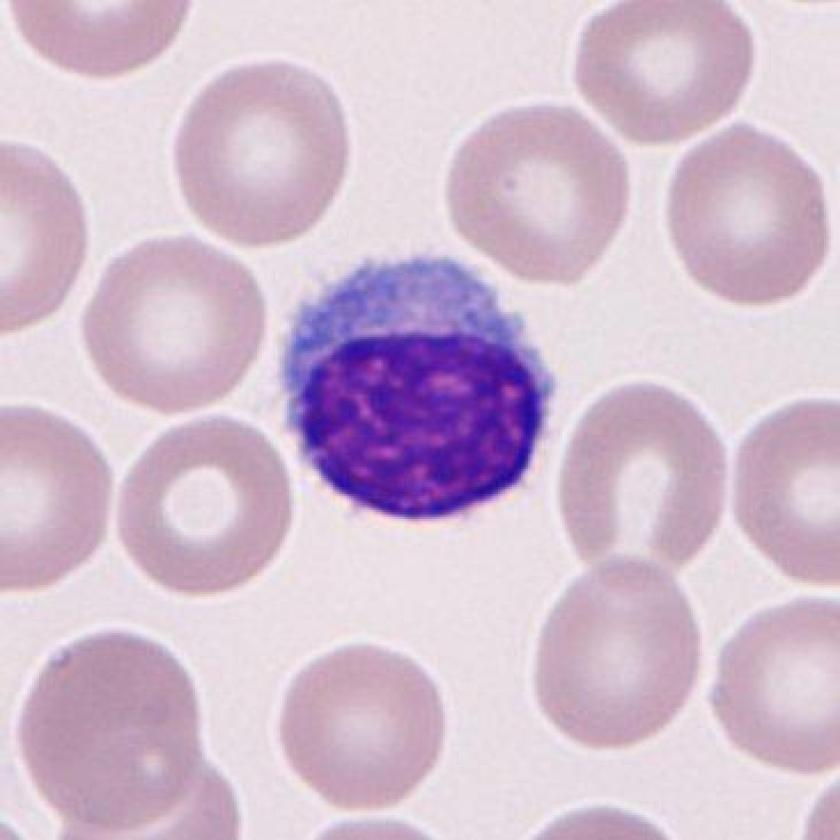lymphocyte: (265, 233, 570, 538)
